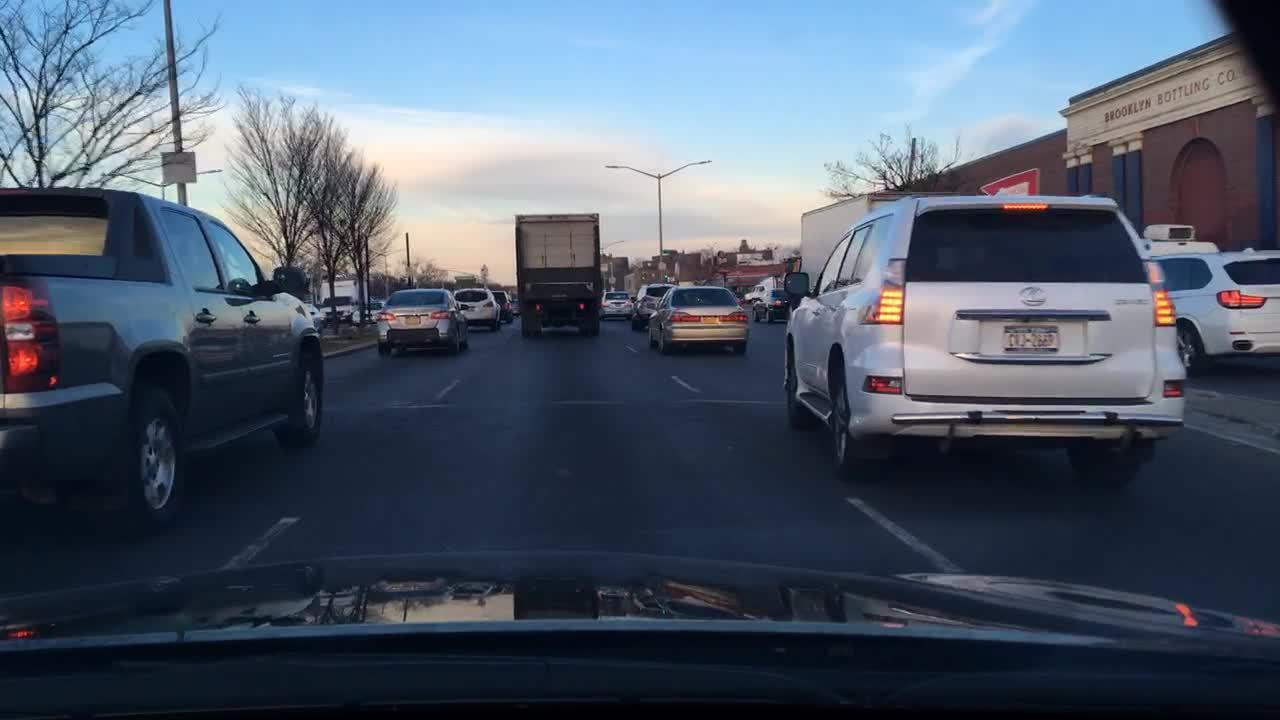lexus: (1015, 281, 1050, 312)
